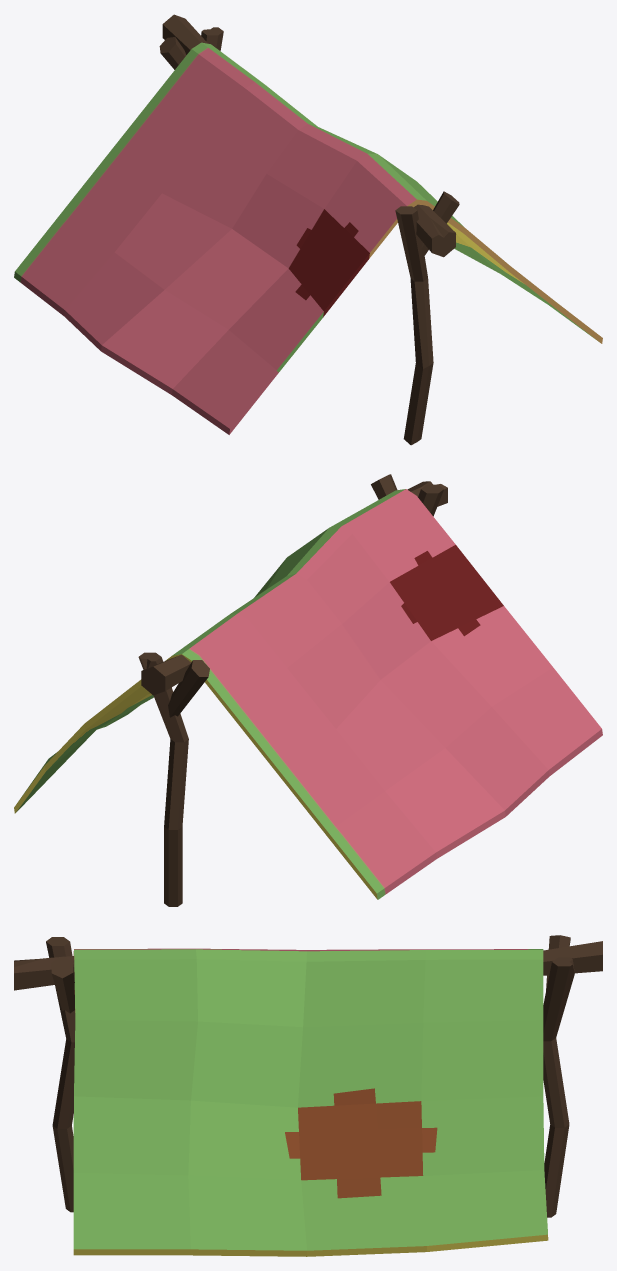
The model's file is Tent_5.fbx.
3 views of the same model, one above another, from view 1: azimuth 30°, elevation 25°; view 2: azimuth 150°, elevation 25°; view 3: azimuth 270°, elevation 25° (orthographic). The views are drawn at different scales.
Parts seen in each view (by area): view 1: Tent_5; view 2: Tent_5; view 3: Tent_5.
Boxes of the visible parts, x1,y1,x2,y2 form: Tent_5: (14, 14, 602, 445); Tent_5: (14, 474, 602, 906); Tent_5: (14, 935, 602, 1256).
Size of the model in its own units: 130 by 79.03 by 155.
